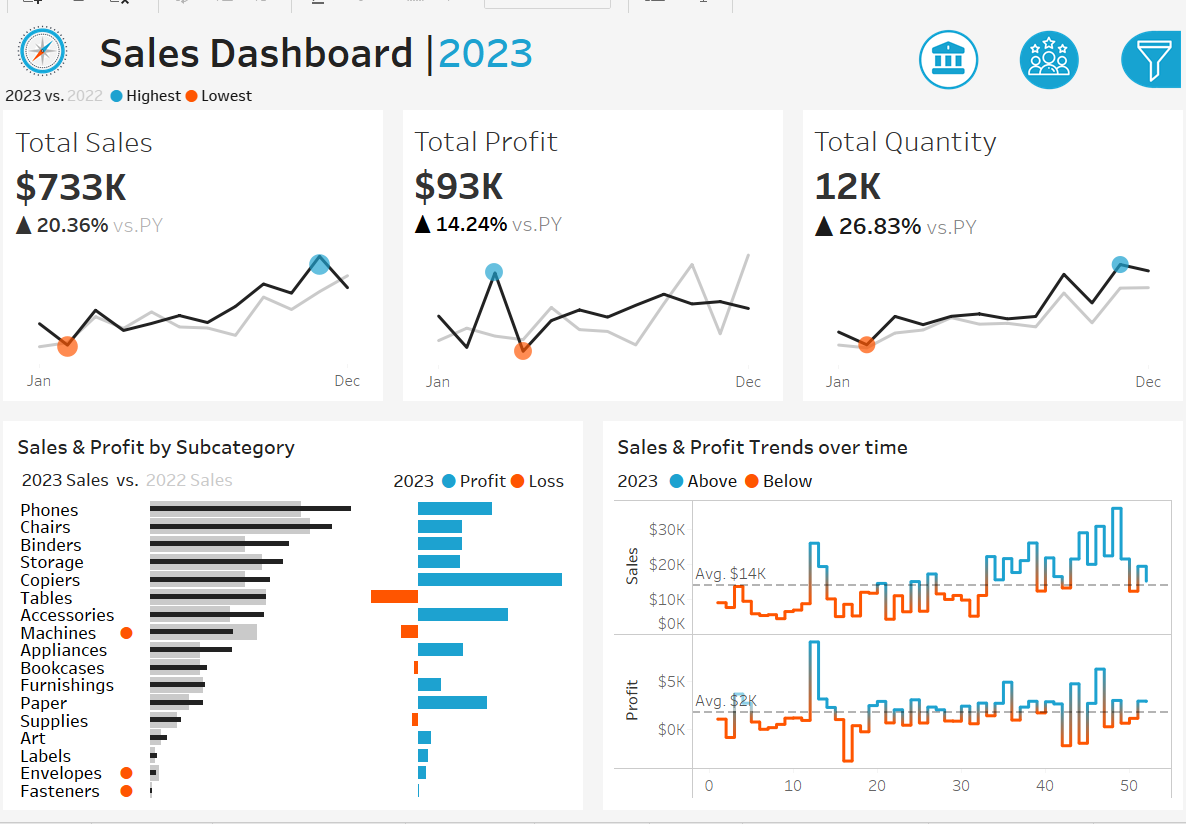

This screenshot's page, from the dashboard's own definition file:
{"tool":"tableau","page":{"name":"Sales Dashboard","canvas":[1200,800],"ordinal":1},"visuals":[{"type":"image","param":"Image/Icon - Logo.png","box":[0,0,99,61]},{"type":"text","box":[99,0,1101,61]},{"type":"dashboard-object","box":[905,5,101,69]},{"type":"dashboard-object","box":[1006,5,101,69]},{"type":"blank","box":[923,10,265,126]},{"type":"worksheet","title":"Legends for KPI","mark":"Automatic","box":[0,61,1200,29]},{"type":"worksheet","title":"KPI Sales","mark":"Automatic","rows":["Calculation_1120270453698658308"],"cols":["Order Date"],"box":[0,90,400,301]},{"type":"worksheet","title":"KPI Profit","mark":"Line","rows":["Min/Max Sales (copy)_1087056406767534084"],"cols":["Order Date"],"box":[400,90,400,301]},{"type":"worksheet","title":"KPI Quantity","mark":"Line","rows":["Min/Max Profit (copy)_575616374389063683"],"cols":["Order Date"],"box":[800,90,400,301]},{"type":"text","box":[923,136,265,40]},{"type":"parameter","param":"[Parameters].[Parameter 1]","box":[923,176,265,56]},{"type":"blank","box":[923,232,265,73]},{"type":"text","box":[923,305,265,33]},{"type":"filter","title":"KPI Sales","param":"[federated.10psxl80c39f1c1g9vgro1bdoksa].[none:Category:nk]","box":[923,338,265,61]},{"type":"filter","title":"KPI Sales","param":"[federated.10psxl80c39f1c1g9vgro1bdoksa].[none:Sub-Category:nk]","box":[923,399,265,61]},{"type":"text","box":[17,408,566,36]},{"type":"text","box":[617,408,566,36]},{"type":"worksheet","title":"Legends for subcategory","mark":"Automatic","box":[17,444,376,32]},{"type":"text","box":[393,444,190,32]},{"type":"text","box":[617,444,566,32]},{"type":"text","box":[923,460,265,33]},{"type":"worksheet","title":"Sub Category Comparison","mark":"Bar","rows":["Sub-Category","Calculation_575616374449442822"],"cols":["CY Sales (copy)_1120270453690908673","Calculation_1120270453690691584","CY Sales (copy)_1087056406766698497"],"box":[17,476,566,307]},{"type":"worksheet","title":"Weekly Trends","mark":"Automatic","rows":["Calculation_1120270453690691584","CY Sales (copy)_1087056406766698497"],"cols":["Order Date"],"box":[617,476,566,307]},{"type":"filter","title":"KPI Sales","param":"[federated.10psxl80c39f1c1g9vgro1bdoksa].[none:Region:nk]","box":[923,493,265,61]},{"type":"filter","title":"KPI Sales","param":"[federated.10psxl80c39f1c1g9vgro1bdoksa].[none:State:nk]","box":[923,554,265,61]},{"type":"filter","title":"KPI Sales","param":"[federated.10psxl80c39f1c1g9vgro1bdoksa].[none:City:nk]","box":[923,615,265,61]}]}

Visuals, with their boxes on the page's 1200x800 design canvas (x1, y1, x2, y2). These are canvas units, not pixel positions in the 1186x824 screenshot, which may show the page scaled, cropped or inside an application window:
image: l=0, t=0, r=99, b=61
text: l=99, t=0, r=1200, b=61
dashboard-object: l=905, t=5, r=1006, b=74
dashboard-object: l=1006, t=5, r=1107, b=74
blank: l=923, t=10, r=1188, b=136
"Legends for KPI" worksheet: l=0, t=61, r=1200, b=90
"KPI Sales" worksheet: l=0, t=90, r=400, b=391
"KPI Profit" worksheet (Line marks): l=400, t=90, r=800, b=391
"KPI Quantity" worksheet (Line marks): l=800, t=90, r=1200, b=391
text: l=923, t=136, r=1188, b=176
parameter: l=923, t=176, r=1188, b=232
blank: l=923, t=232, r=1188, b=305
text: l=923, t=305, r=1188, b=338
"KPI Sales" filter: l=923, t=338, r=1188, b=399
"KPI Sales" filter: l=923, t=399, r=1188, b=460
text: l=17, t=408, r=583, b=444
text: l=617, t=408, r=1183, b=444
"Legends for subcategory" worksheet: l=17, t=444, r=393, b=476
text: l=393, t=444, r=583, b=476
text: l=617, t=444, r=1183, b=476
text: l=923, t=460, r=1188, b=493
"Sub Category Comparison" worksheet (Bar marks): l=17, t=476, r=583, b=783
"Weekly Trends" worksheet: l=617, t=476, r=1183, b=783
"KPI Sales" filter: l=923, t=493, r=1188, b=554
"KPI Sales" filter: l=923, t=554, r=1188, b=615
"KPI Sales" filter: l=923, t=615, r=1188, b=676
